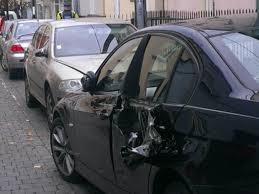doorouter-dent: (117, 98, 178, 172), (74, 88, 116, 138)
